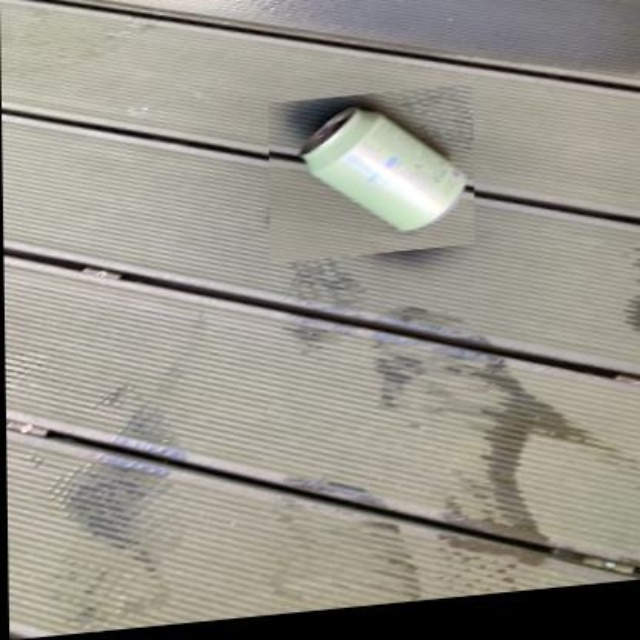trash: (302, 108, 465, 229)
